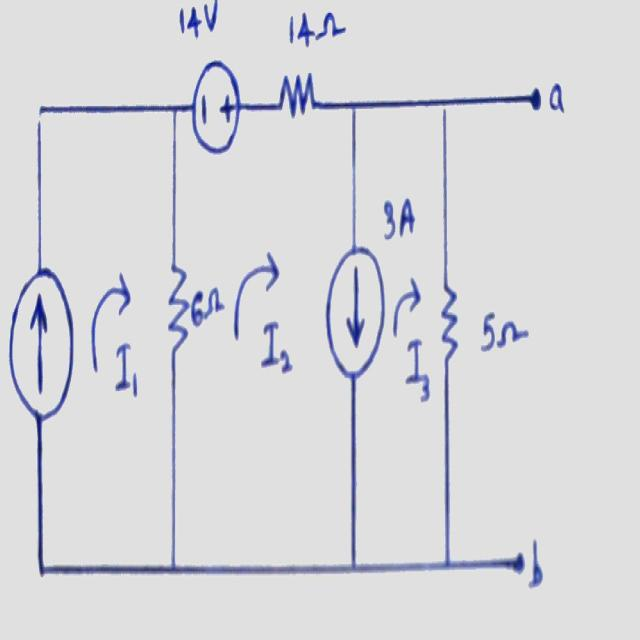current_source: (6, 256, 77, 428), (326, 237, 386, 396)
resistor: (161, 252, 192, 360), (276, 66, 318, 129), (436, 272, 462, 373)
voltage_source: (191, 54, 244, 161)
